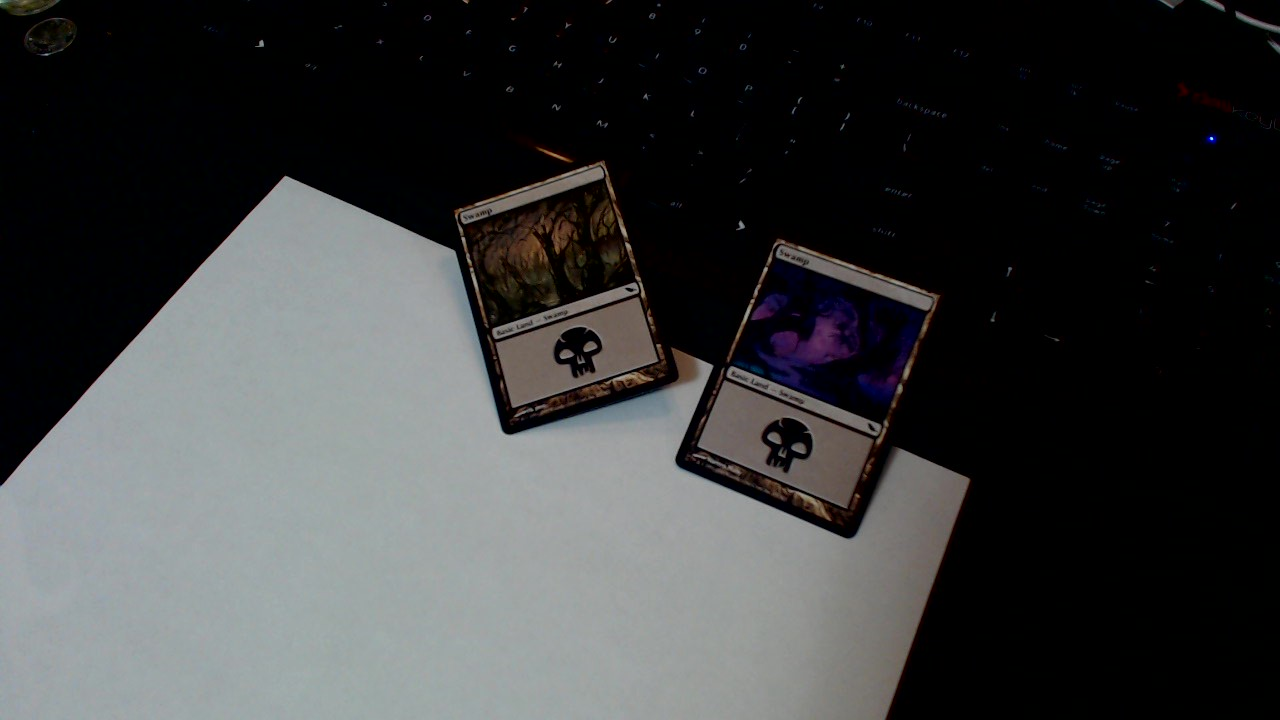MTG Card: (673, 230, 948, 545), (448, 150, 683, 436)
